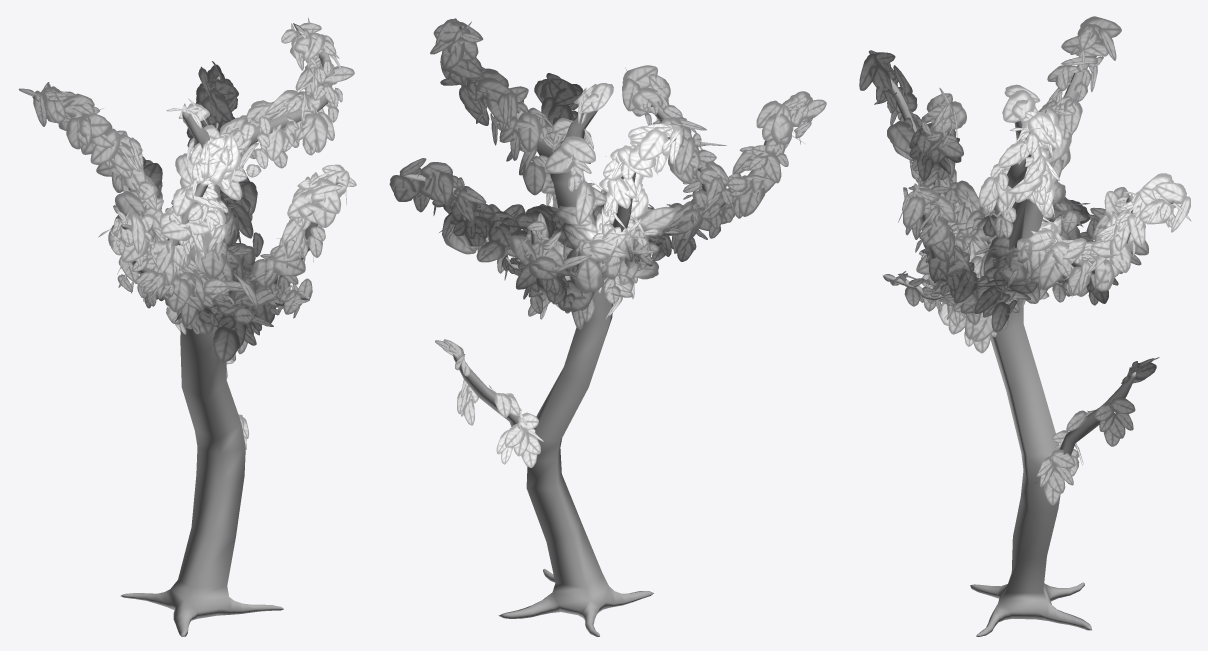
Rendered from Regular Tree 2 Low Poly.fbx.
The picture shows the model from 3 angles, left to right: view 1: azimuth 30°, elevation 25°; view 2: azimuth 150°, elevation 25°; view 3: azimuth 270°, elevation 25°; orthographic projection.
Parts seen in each view (by area): view 1: Leaves, Regular_Tree_2_Low_Poly; view 2: Leaves, Regular_Tree_2_Low_Poly; view 3: Leaves, Regular_Tree_2_Low_Poly.
Boxes of the visible parts, <box> form: Leaves: <box>18,17,356,449</box>; Regular_Tree_2_Low_Poly: <box>32,23,343,636</box>; Leaves: <box>389,18,826,467</box>; Regular_Tree_2_Low_Poly: <box>403,25,767,636</box>; Leaves: <box>859,16,1191,505</box>; Regular_Tree_2_Low_Poly: <box>882,52,1179,636</box>.
Bounding box in the file's own units: 12.09 × 20.7 × 11.27.
